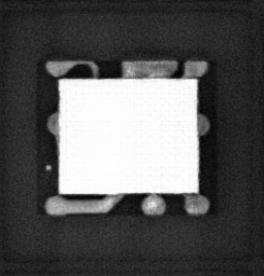DIE_INK: (43, 163, 53, 171)
